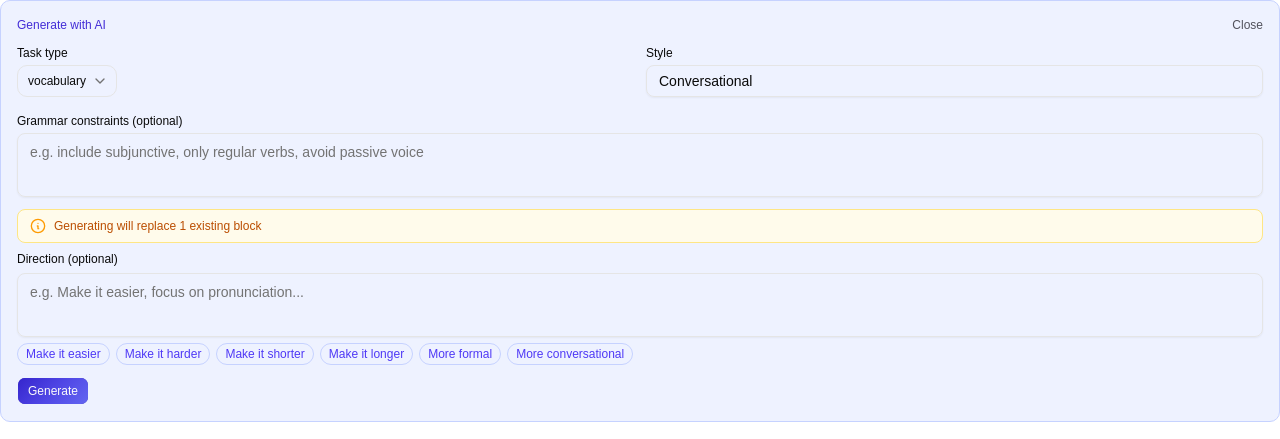
Test: GeneratePanel - direction textarea and chips › clicking a direction chip sets the textarea value
This screenshot has width=1280, height=439.
Click the button with test id "direction-chip-make-it-easier" at (63, 354), box top-left (17, 343), bottom-right (110, 365)
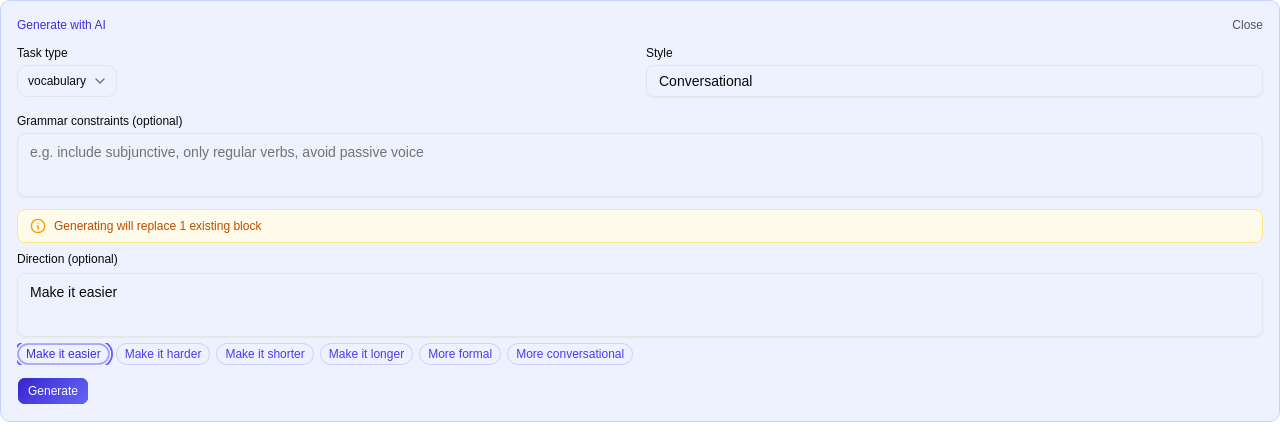
Expected: the text box with test id "direction-textarea" holds "Make it easier", top-left (17, 273), bottom-right (1263, 337)
